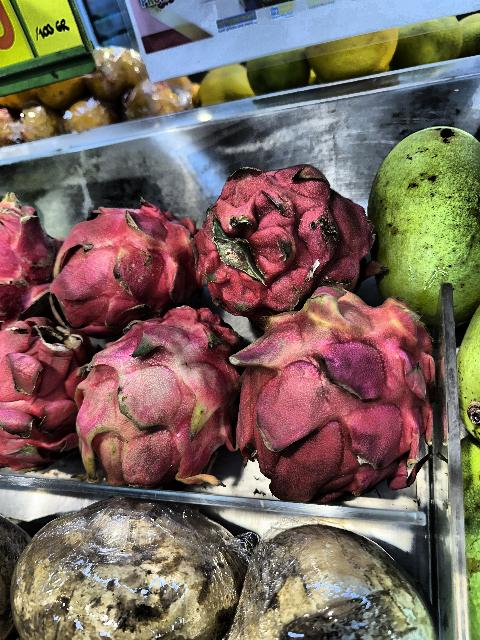buah-naga-belum-matang: (238, 294, 440, 506), (77, 312, 240, 488)
buah-naga-matang: (192, 167, 376, 311), (54, 198, 200, 326), (0, 315, 94, 471), (0, 190, 64, 320)
